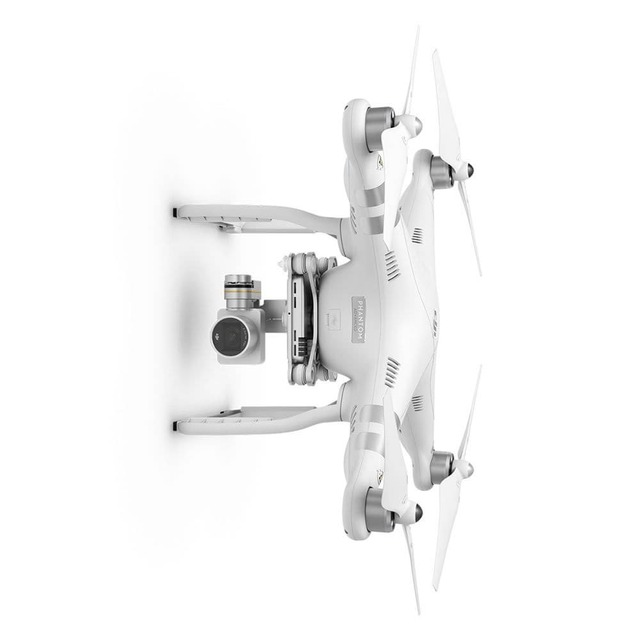drone: (166, 35, 493, 616)
